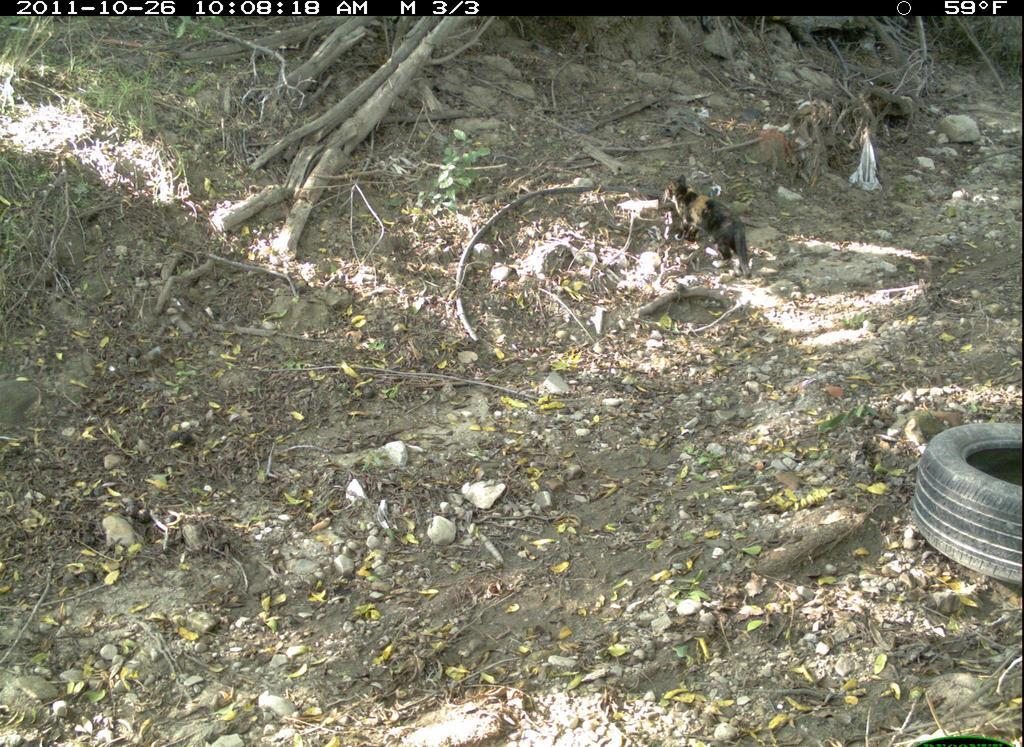cat: (624, 143, 763, 294)
